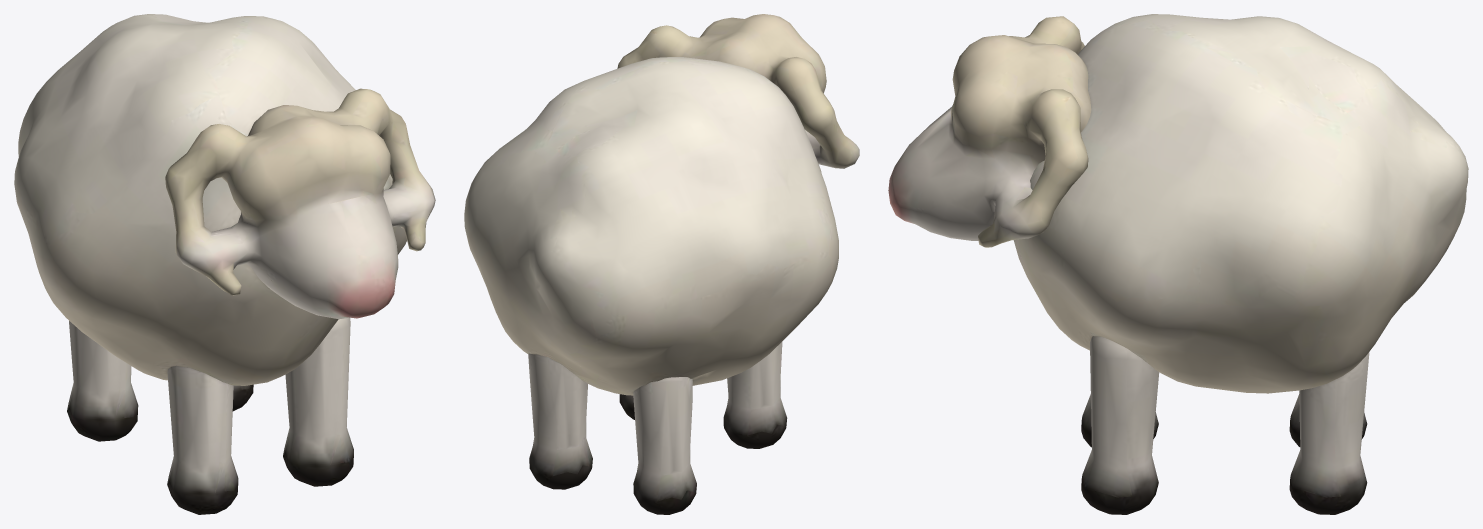
Rendered from animal_merino_sheep.glb.
The picture shows the model from 3 angles, left to right: view 1: azimuth 30°, elevation 25°; view 2: azimuth 150°, elevation 25°; view 3: azimuth 270°, elevation 25°; orthographic projection. The views are drawn at different scales.
Visible parts, largest first — view 1: animal_merino_sheep, head, leg0, leg1, leg2; view 2: animal_merino_sheep, head, leg2, leg3, leg0; view 3: animal_merino_sheep, head, leg1, leg3.
Boxes of the visible parts, box(x1,y1,x2,y2) form: animal_merino_sheep: box(14, 14, 406, 385); head: box(165, 88, 435, 319); leg0: box(167, 365, 238, 514); leg1: box(283, 317, 353, 486); leg2: box(67, 321, 138, 441); animal_merino_sheep: box(464, 57, 838, 395); head: box(617, 14, 859, 168); leg2: box(633, 377, 696, 514); leg3: box(528, 353, 592, 489); leg0: box(723, 342, 787, 448); animal_merino_sheep: box(1013, 14, 1468, 393); head: box(888, 16, 1091, 247); leg1: box(1081, 336, 1159, 514); leg3: box(1289, 352, 1369, 514).
Bounding box in the file's own units: 0.3609 × 0.4298 × 0.501.
Materials: 1 (1 with a texture image).
